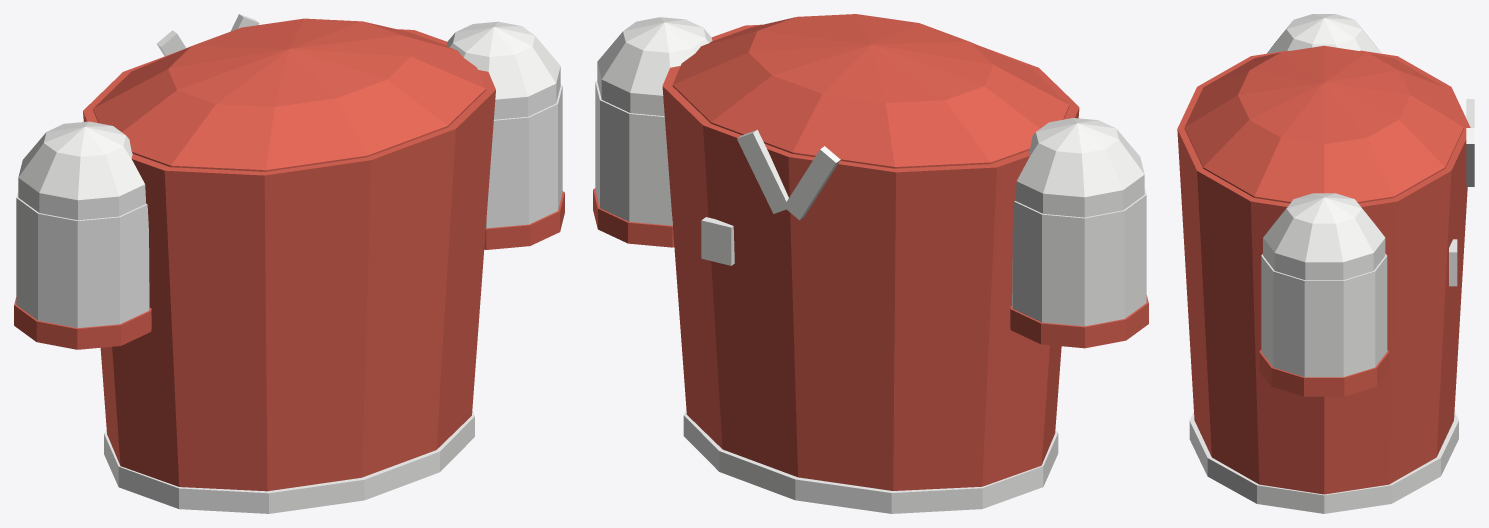
Rendered from jacket_football.glb.
The picture shows the model from 3 angles, left to right: view 1: azimuth 30°, elevation 25°; view 2: azimuth 150°, elevation 25°; view 3: azimuth 270°, elevation 25°; orthographic projection. The views are drawn at different scales.
Visible parts, largest first — view 1: Torso, ArmL, ArmR; view 2: Torso, ArmL, ArmR; view 3: Torso, ArmR, ArmL.
Part boxes in pixels (x1,y1,x2,y2): Torso: (83,14,495,513); ArmL: (14,121,151,349); ArmR: (446,21,564,249); Torso: (662,14,1079,513); ArmL: (1009,118,1148,348); ArmR: (593,17,712,247); Torso: (1177,45,1474,513); ArmR: (1259,193,1389,396); ArmL: (1267,14,1381,53).
Size of the model in its own units: 0.8007 by 0.5744 by 0.4343.
